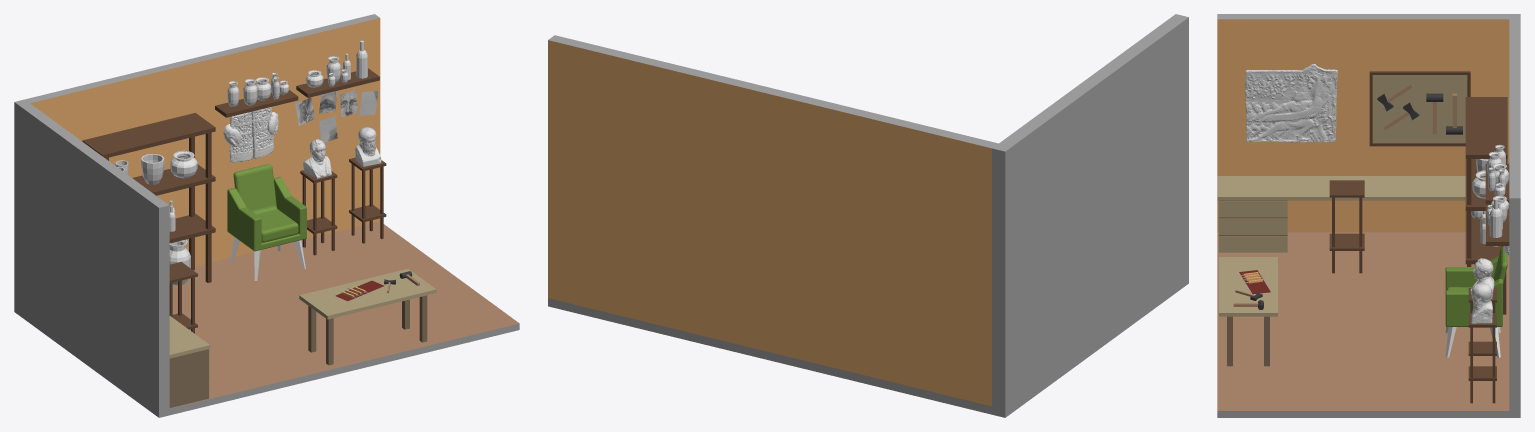
Rendered from Room_Start.fbx.
The picture shows the model from 3 angles, left to right: view 1: azimuth 30°, elevation 25°; view 2: azimuth 150°, elevation 25°; view 3: azimuth 270°, elevation 25°; orthographic projection. The views are drawn at different scales.
Visible parts, largest first — view 1: Room, Shelf.002, Table, Plane.001, Cube.028, relief_au_taureau_lower_Rez, Cube.001, Plane.002, Cube.012, Cube.019, Cube.005, Cube.016 (+6 smaller); view 2: Room; view 3: Room, Samudra Manthan, Board, Cube.005, Shelf.002, Table, Plane.001, Cube.003, Cube.002, Cube.004, Plato, Cube.025 (+16 smaller).
Part boxes in pixels (<box>): Room: <box>14,14,519,417</box>; Shelf.002: <box>82,113,215,285</box>; Table: <box>299,268,436,319</box>; Plane.001: <box>227,176,306,251</box>; Cube.028: <box>233,164,298,242</box>; relief_au_taureau_lower_Rez: <box>223,107,278,162</box>; Cube.001: <box>169,349,208,407</box>; Plane.002: <box>295,90,378,142</box>; Cube.012: <box>308,295,427,365</box>; Cube.019: <box>351,164,383,243</box>; Cube.005: <box>169,316,210,358</box>; Cube.016: <box>302,175,334,255</box>; Room: <box>548,14,1188,417</box>; Room: <box>1217,14,1520,417</box>; Samudra Manthan: <box>1245,64,1337,142</box>; Board: <box>1369,71,1470,146</box>; Cube.005: <box>1217,176,1465,200</box>; Shelf.002: <box>1465,97,1507,314</box>; Table: <box>1219,257,1277,316</box>; Plane.001: <box>1445,256,1502,326</box>; Cube.003: <box>1218,236,1287,252</box>; Cube.002: <box>1218,201,1287,217</box>; Cube.004: <box>1218,218,1287,234</box>; Plato: <box>1471,283,1492,323</box>; Cube.025: <box>1329,180,1364,197</box>.
Bounding box in the file's own units: 503 × 280 × 350.
12 materials, 1 textured.
